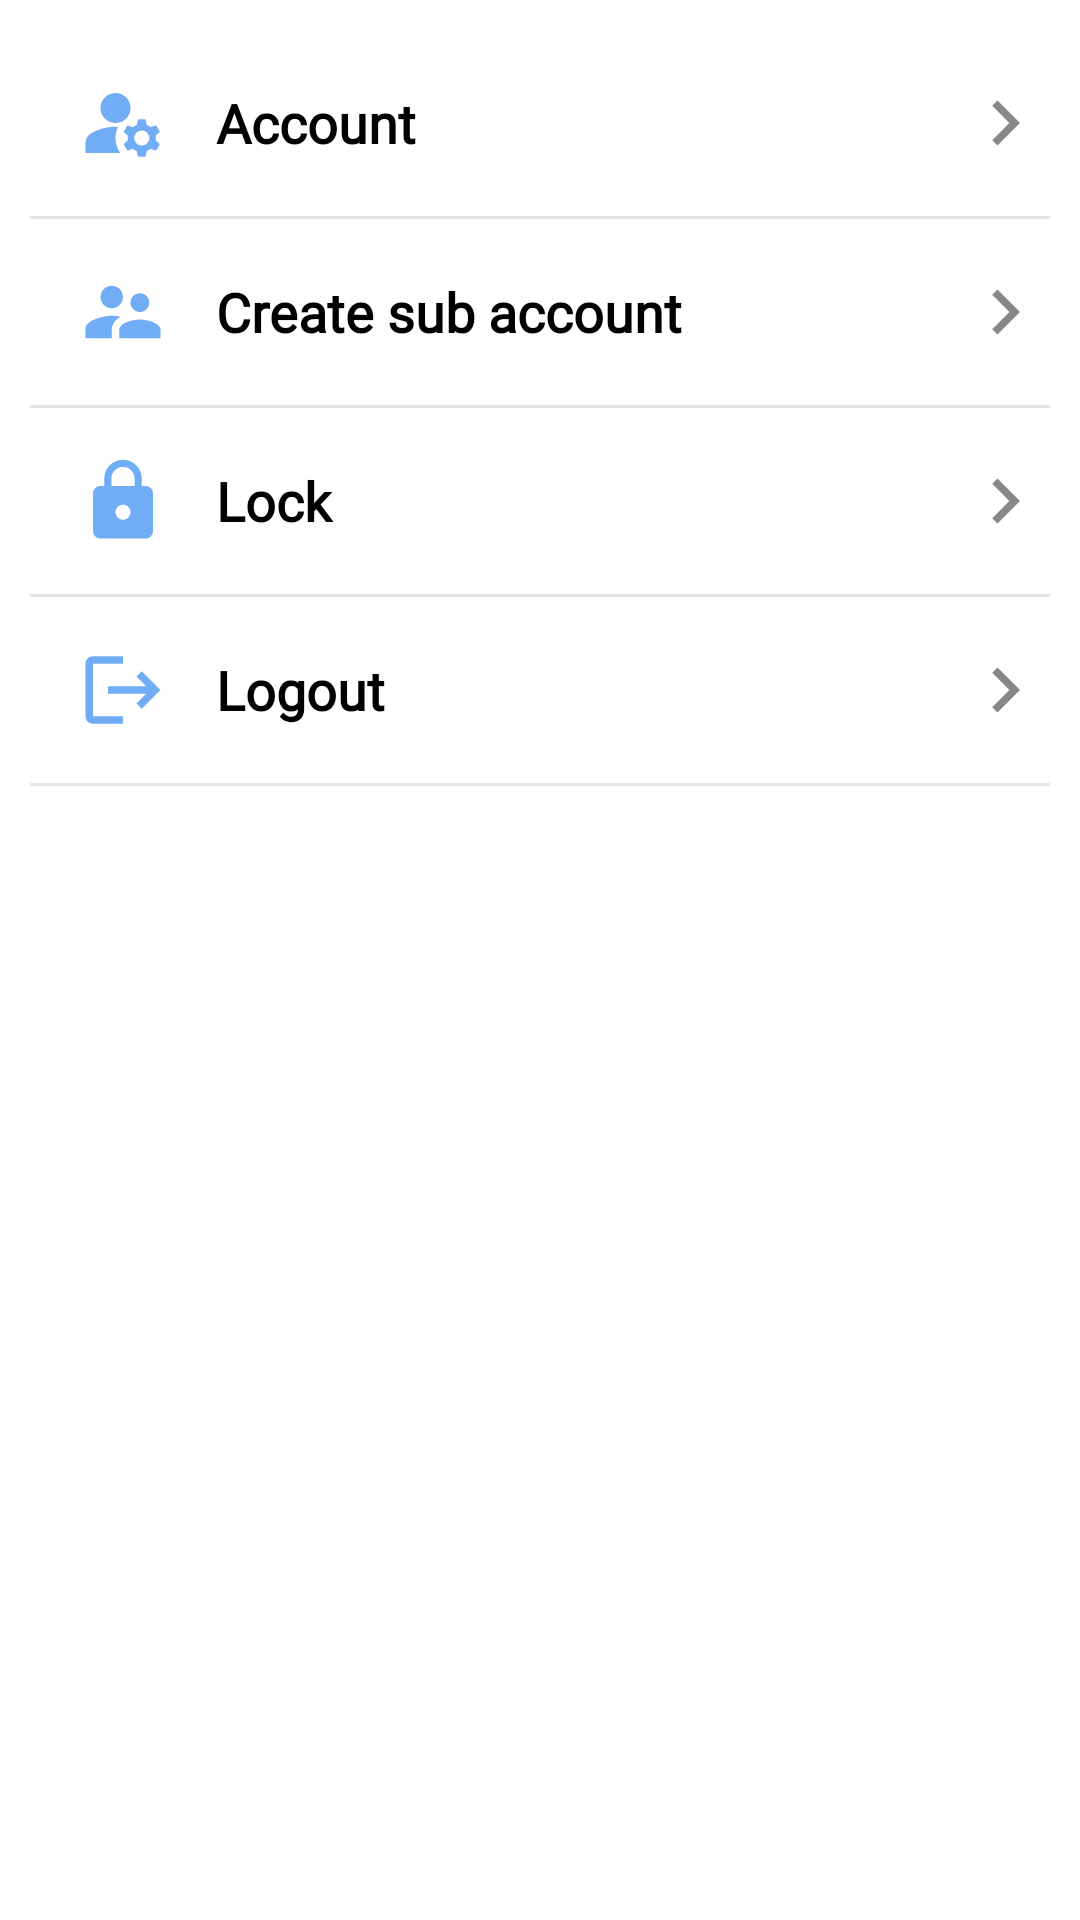

Icons on this 1080px x 1920px Android screen, each with the point to tap as (x,y):
next: (1006,123), (1006,312), (1006,501), (1006,690)
